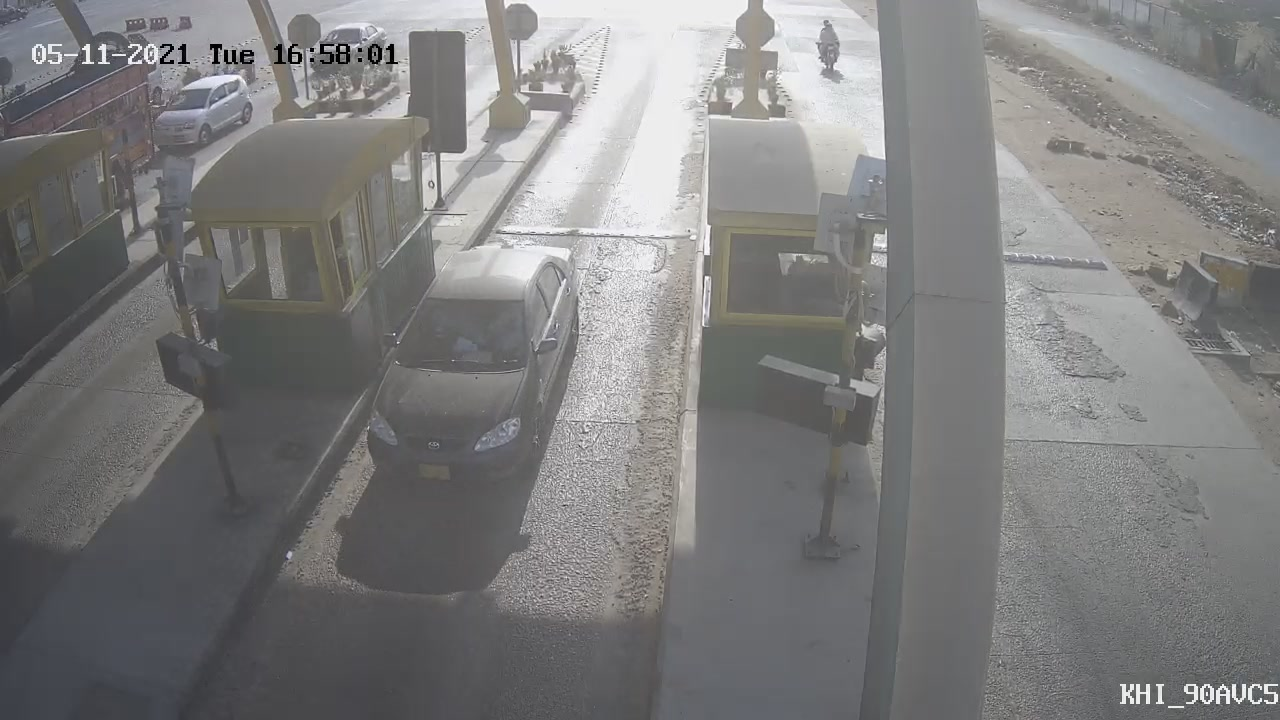F1: (340, 224, 598, 505)
